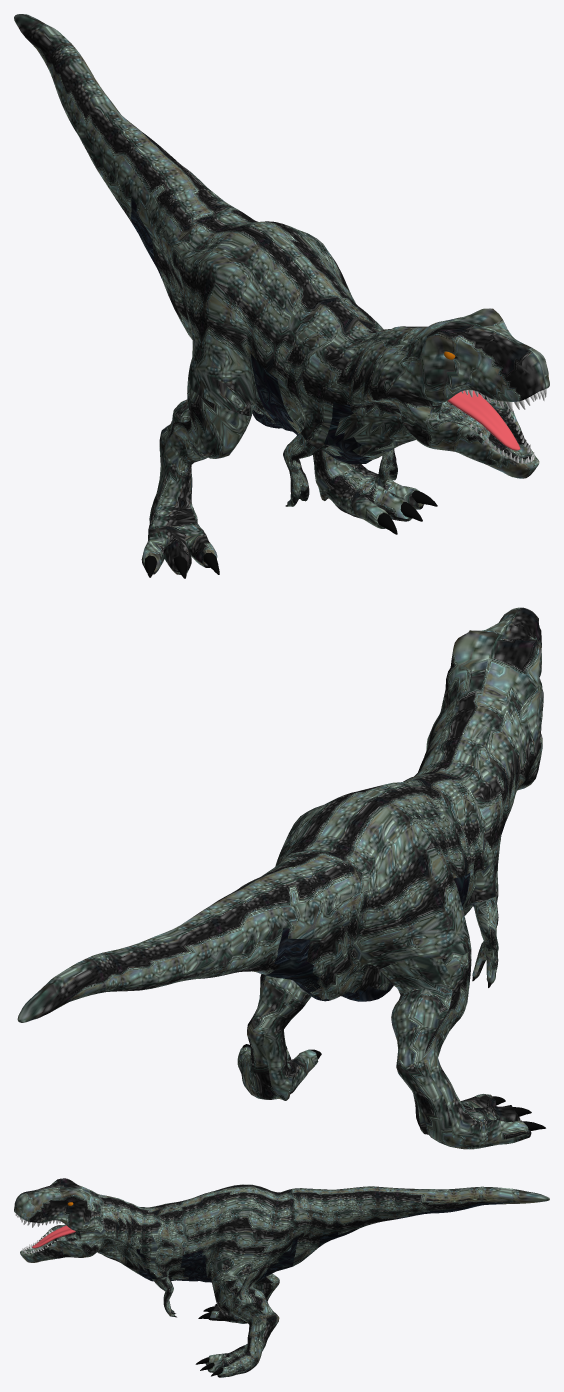
File: trexmodel.fbx
3 views of the same model, one above another, from view 1: azimuth 30°, elevation 25°; view 2: azimuth 150°, elevation 25°; view 3: azimuth 270°, elevation 25° (orthographic). The views are drawn at different scales.
Visible parts, largest first — view 1: T-Rex1_T-Rex1.001, tongue_raptor_0, claws1, T-Rex_teeth1; view 2: T-Rex1_T-Rex1.001; view 3: T-Rex1_T-Rex1.001, tongue_raptor_0, claws1, T-Rex_teeth1.
Boxes of the visible parts, <box> form: T-Rex1_T-Rex1.001: <box>14,14,549,574</box>; tongue_raptor_0: <box>447,390,520,450</box>; claws1: <box>144,481,437,578</box>; T-Rex_teeth1: <box>461,388,546,463</box>; T-Rex1_T-Rex1.001: <box>17,607,543,1149</box>; T-Rex1_T-Rex1.001: <box>14,1178,549,1377</box>; tongue_raptor_0: <box>32,1225,75,1248</box>; claws1: <box>174,1304,223,1376</box>; T-Rex_teeth1: <box>15,1214,62,1253</box>.
Bounding box in the file's own units: 410 × 444 × 1256.
5 materials, 1 textured.
